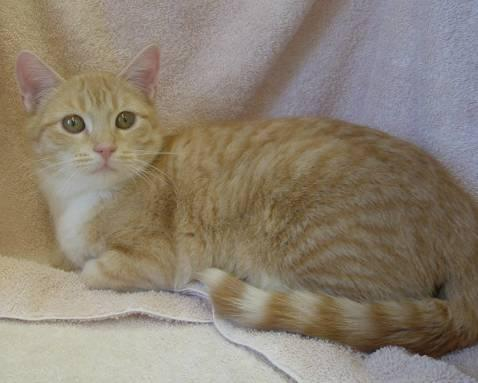cat: (17, 48, 477, 356)
